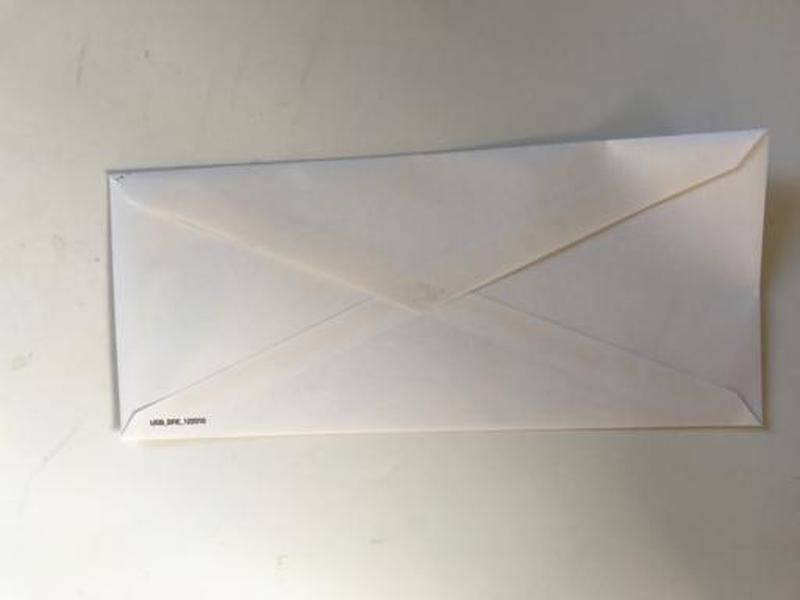paper: (90, 126, 775, 441)
